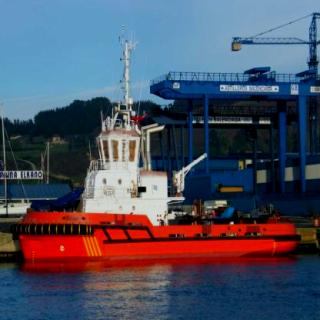Tug Boat: (10, 81, 299, 259)
